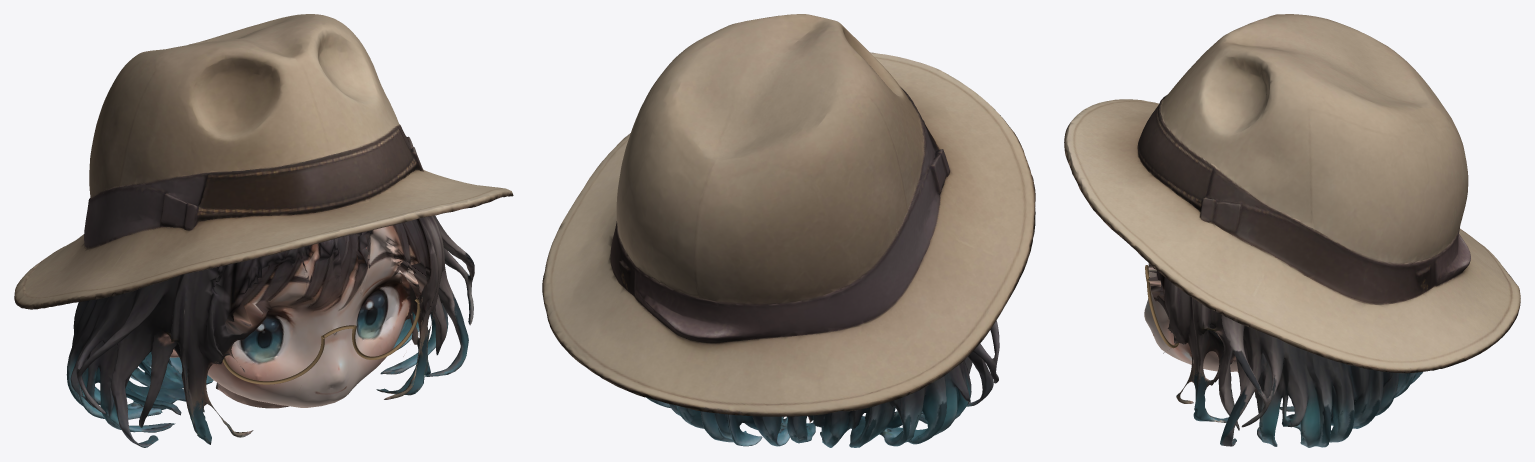
The model's file is tsukuyo-head-underrim.glb.
3 renders of one model, left to right at view 1: azimuth 30°, elevation 25°; view 2: azimuth 150°, elevation 25°; view 3: azimuth 270°, elevation 25°, orthographic. The views are drawn at different scales.
Parts seen in each view (by area): view 1: head; view 2: head; view 3: head.
Boxes of the visible parts, <box> form: head: <box>14,14,513,447</box>; head: <box>542,14,1035,447</box>; head: <box>1064,14,1520,447</box>.
Size of the model in its own units: 1 by 0.843 by 0.9751.
Materials: 1 (1 with a texture image).
